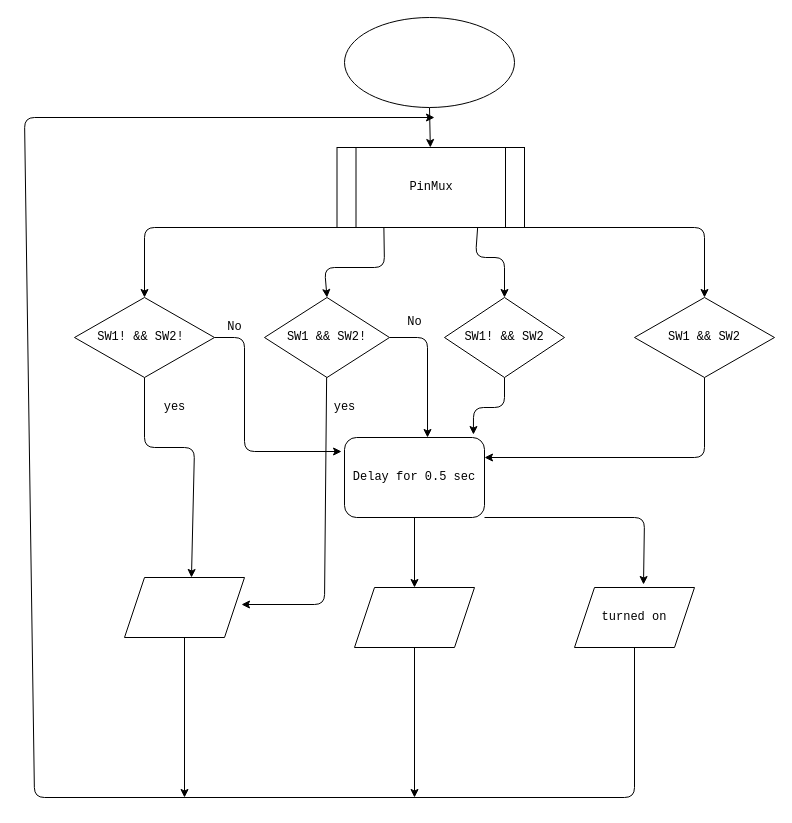
Image size: 792x823. Some labels were removed from this diagram. The shapes that lost their labels are listed below. From the top down, each one's centre as x and y in pixels, then its label:
the point at 429,62: Main
the point at 184,607: turned off
the point at 414,617: Switch to red
